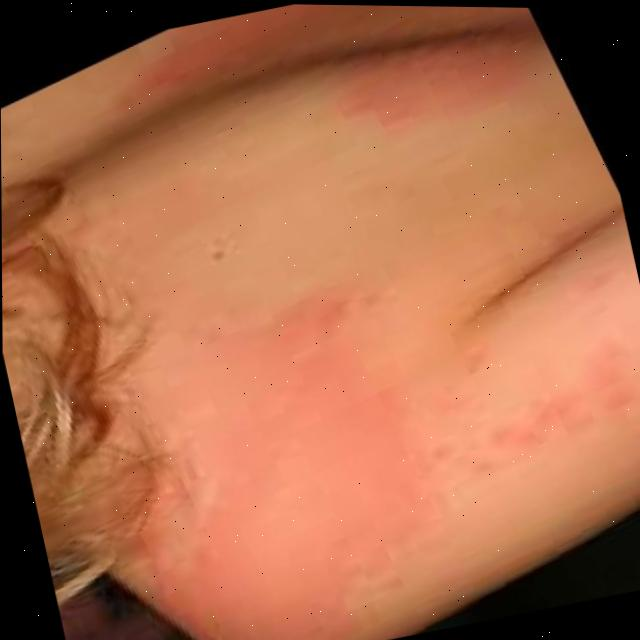Eczema: (155, 2, 557, 175), (152, 367, 410, 622)
